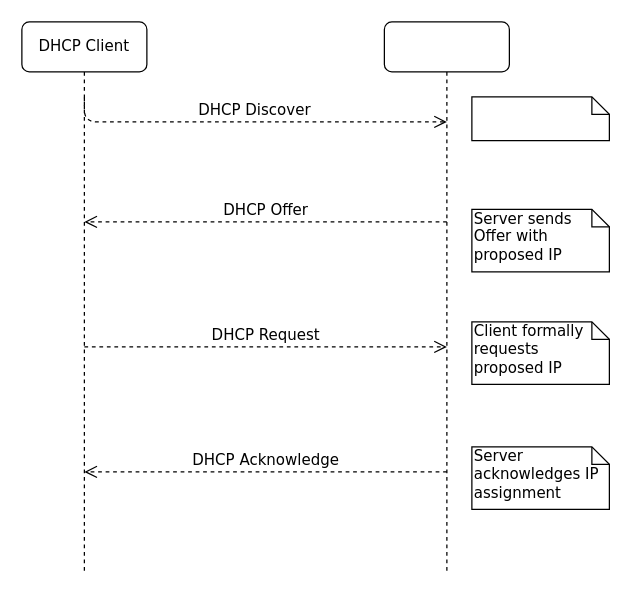
Some shapes in this 631 by 594 pixel diagram are drawn without their labels. The box of each missing label's shape, as (x1, y1, x2, y2) in pixels:
DHCP Server: (383, 21, 509, 572)
Server receives Discover: (471, 96, 609, 141)
